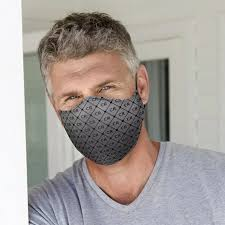with-mask: (36, 11, 163, 170)
